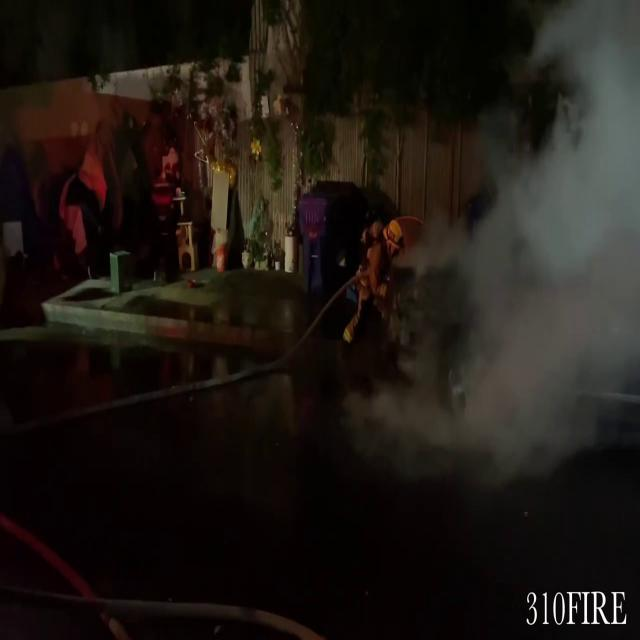Smoke: (470, 1, 640, 494)
